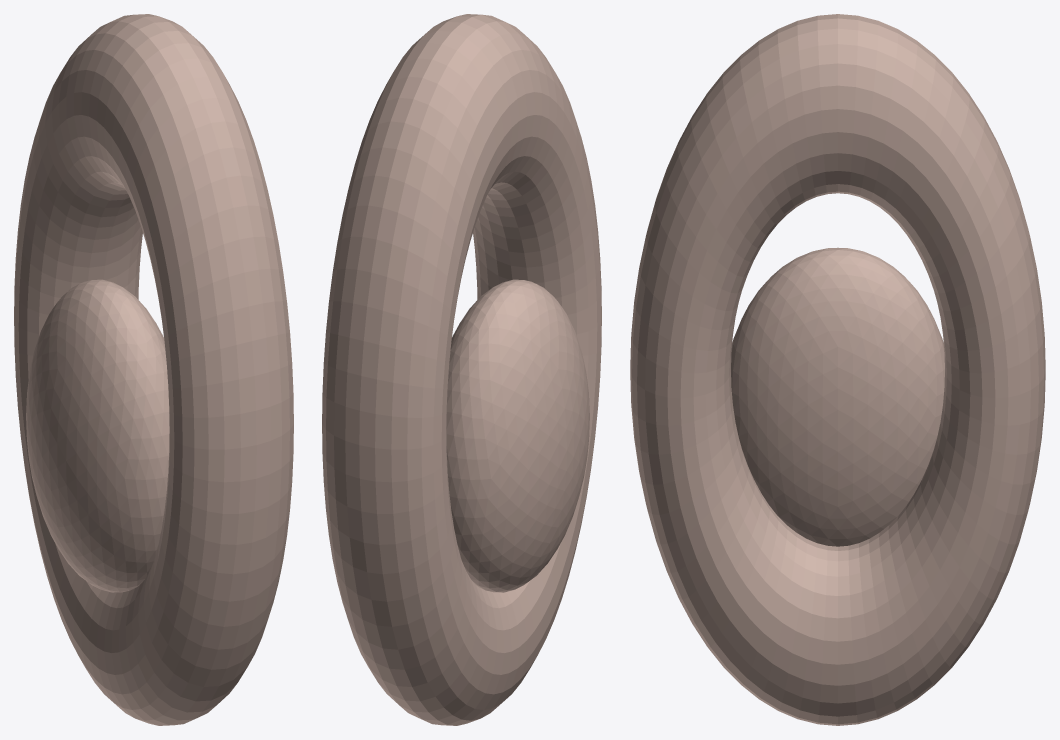
Rendered from ear_b.glb.
3 views of the same model, side by side, from view 1: azimuth 30°, elevation 25°; view 2: azimuth 150°, elevation 25°; view 3: azimuth 270°, elevation 25° (orthographic).
Visible parts, largest first — view 1: geometry_0; view 2: geometry_0; view 3: geometry_0.
Part boxes in pixels (x1,y1,x2,y2): geometry_0: (14, 14, 293, 725); geometry_0: (322, 14, 601, 725); geometry_0: (630, 14, 1045, 725).
Size of the model in its own units: 13.92 by 56.86 by 30.46.
